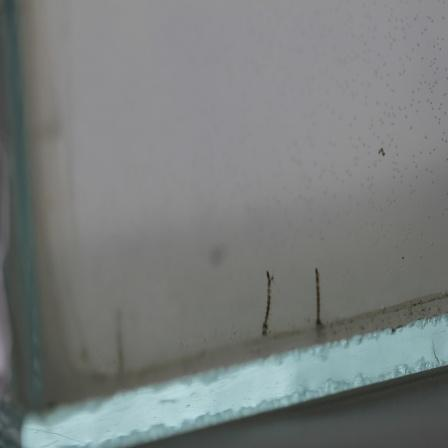Jentik-Nyamuk: (259, 269, 277, 337), (309, 266, 325, 329)
